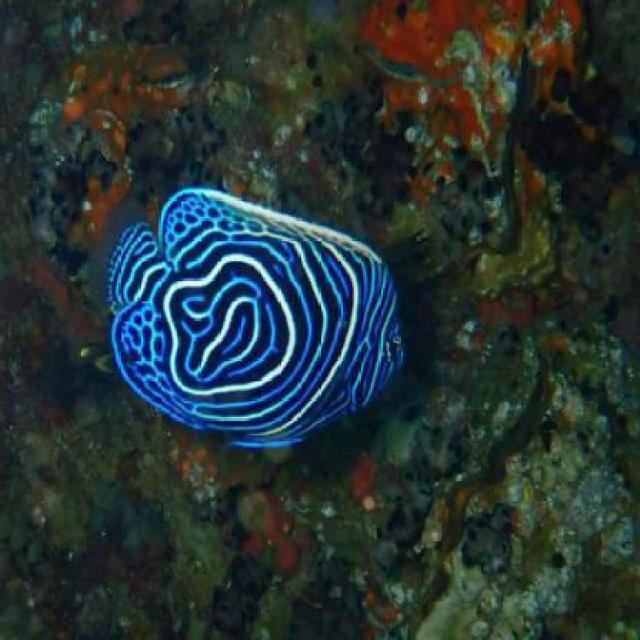AngelFish: (104, 186, 404, 452)
